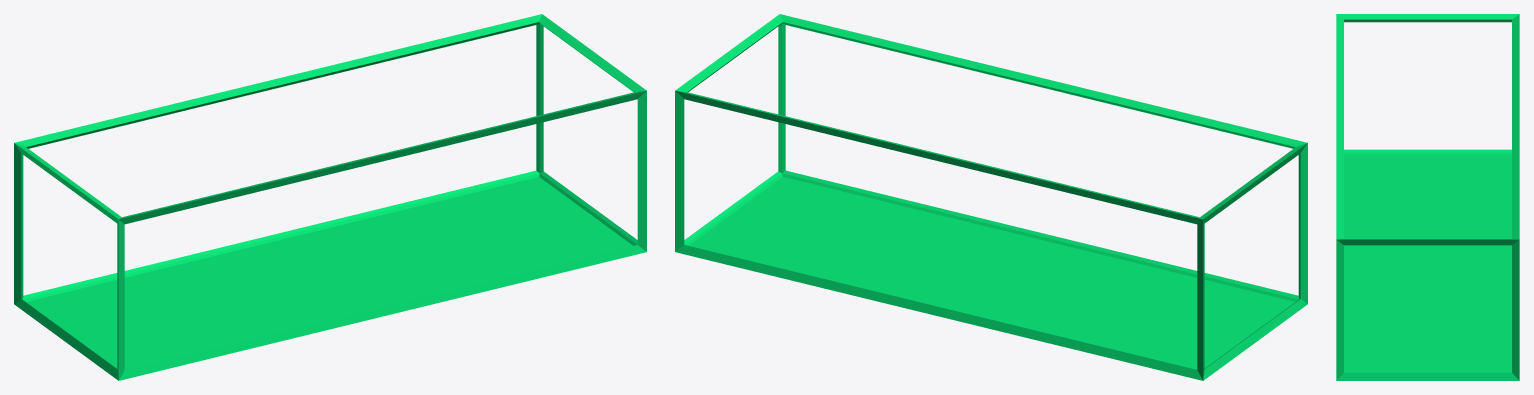
Rendered from Selection.fbx.
3 views of the same model, side by side, from view 1: azimuth 30°, elevation 25°; view 2: azimuth 150°, elevation 25°; view 3: azimuth 270°, elevation 25° (orthographic). The views are drawn at different scales.
Parts seen in each view (by area): view 1: Cube.001, Selectin; view 2: Cube.001, Selectin; view 3: Cube.001, Selectin.
Boxes of the visible parts, x1=… form: Cube.001: x1=27, y1=177, x2=632, y2=369; Selectin: x1=14, y1=14, x2=646, y2=380; Cube.001: x1=689, y1=177, x2=1294, y2=369; Selectin: x1=675, y1=14, x2=1307, y2=380; Cube.001: x1=1344, y1=155, x2=1511, y2=372; Selectin: x1=1336, y1=14, x2=1519, y2=380.
Bounding box in the file's own units: 303 × 88.48 × 104.
